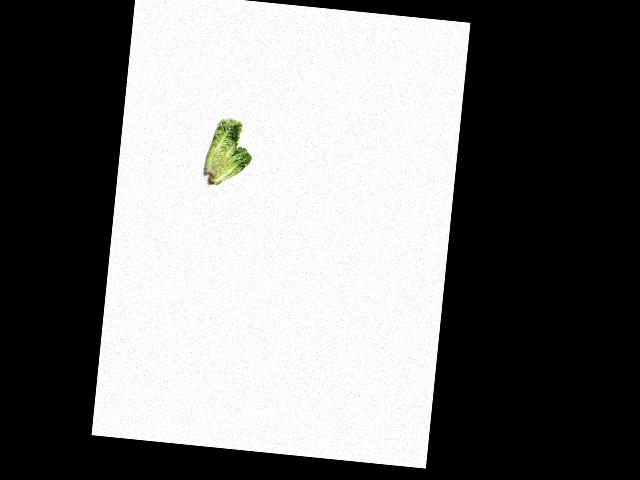lettuce: (206, 143, 253, 191)
